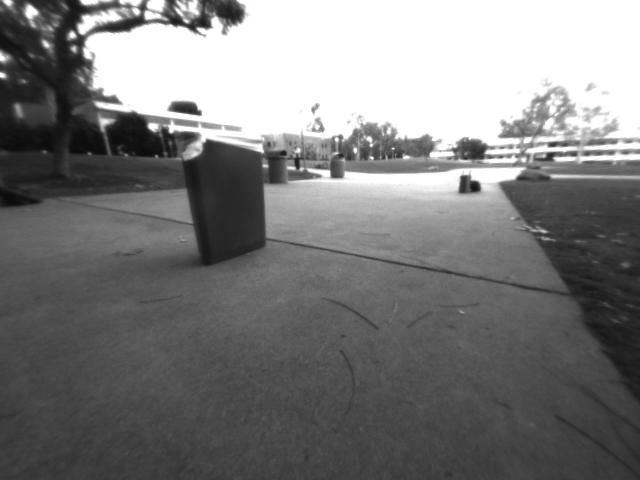trashcan_open: (172, 128, 270, 268)
